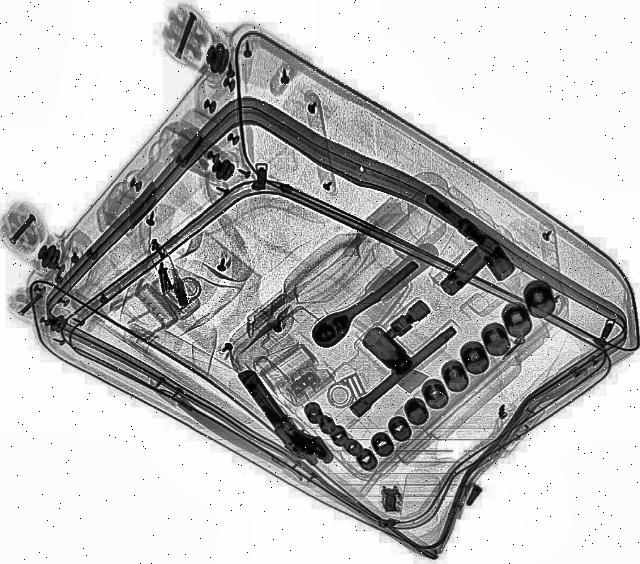Gun: (238, 358, 338, 476)
